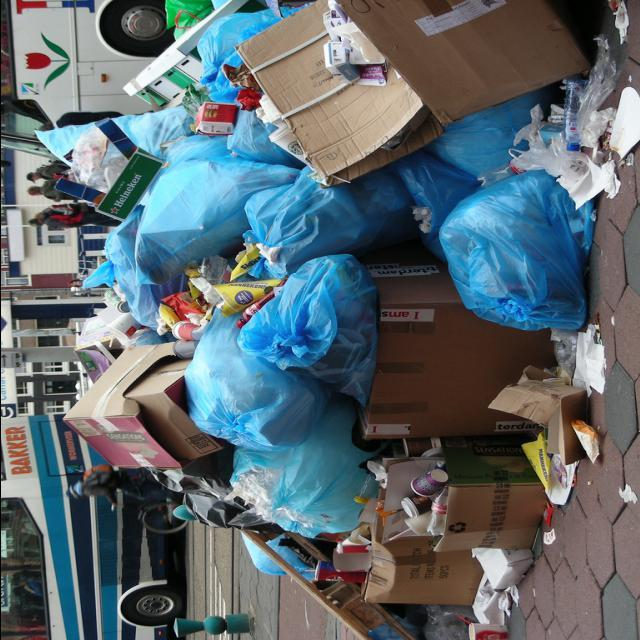Single-layer Plastic: (439, 171, 594, 329), (230, 395, 378, 537), (135, 156, 299, 283), (238, 255, 376, 404), (185, 310, 329, 450), (245, 168, 418, 277), (426, 85, 560, 177), (392, 151, 480, 259), (198, 9, 280, 102)
